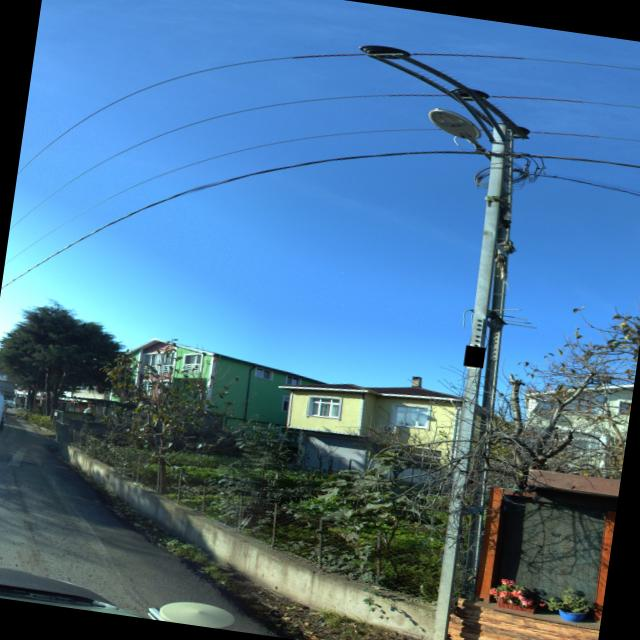Utility Pole Information Plate: (465, 347, 485, 368)
